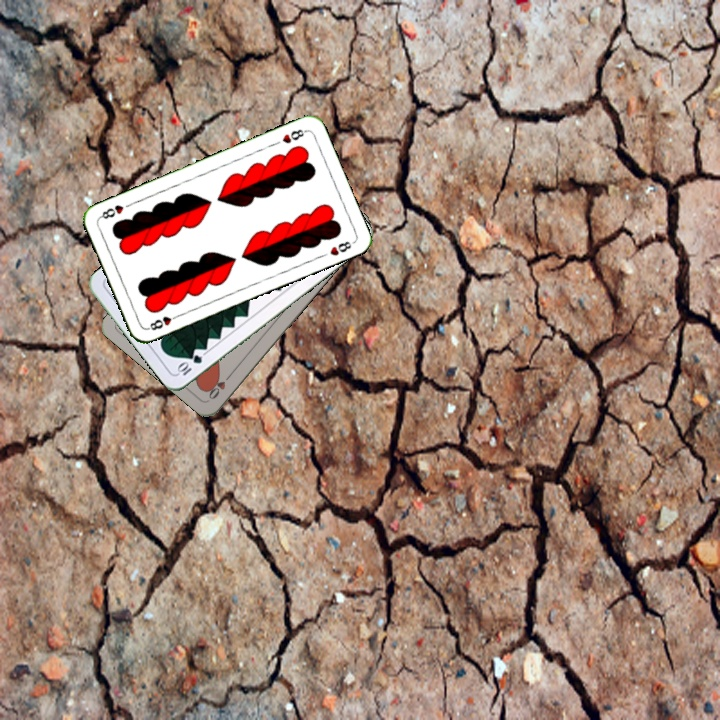G10: (173, 351, 205, 378)
H8: (143, 310, 182, 333), (278, 125, 309, 146)
HO: (204, 368, 235, 402)
